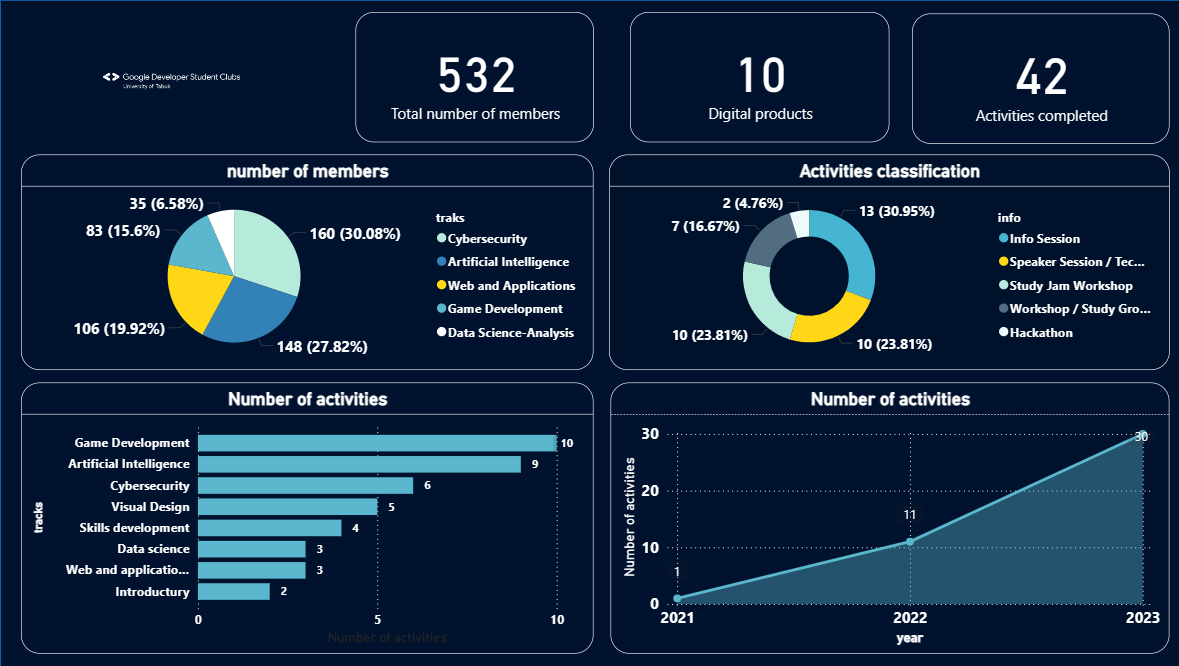

What the dashboard file says about the page in this screenshot:
{"tool":"powerbi","page":{"name":"Page ١","canvas":[1280,720],"ordinal":0},"visuals":[{"type":"shape","box":[0,0,1279.8,720],"z":0},{"type":"donutChart","title":"Activities classification","fields":{"Category":["data (1).info"],"Y":["CountNonNull(data (1).info)"]},"box":[656.9,166.7,605.1,233],"z":1000},{"type":"pieChart","title":"number of members ","fields":{"Category":["ورقة1 (2).traks"],"Y":["Sum(ورقة1 (2).number of members)"]},"box":[22.7,166.7,618.1,233],"z":2000},{"type":"image","box":[0,0,370.5,166.7],"z":3000},{"type":"card","fields":{"Values":["Sum(ورقة1 (2).number of members)"]},"box":[383.5,12.9,257.3,140.8],"z":4000},{"type":"card","fields":{"Values":["Sum(الجدول3 (2).عددها )"]},"box":[679.6,12.9,279.9,140.8],"z":5000},{"type":"card","fields":{"Values":["CountNonNull(data__1.Column1)"]},"box":[983.7,14.6,278.3,140.8],"z":6000},{"type":"clusteredBarChart","title":"Number of activities  ","fields":{"Category":["data__17.tracks"],"Y":["CountNonNull(data__17.number)"]},"box":[22.7,412.6,618.1,292.9],"z":7000},{"type":"areaChart","title":"Number of activities  ","fields":{"Category":["data__14.year"],"Y":["Count(data__14.number)"]},"box":[658.5,412.6,603.5,292.9],"z":8000}]}

Visuals, with their boxes in screenshot pixels (x1, y1, x2, y2), scaled from the page's 1280x720 canvas onto the 1179x666 screenshot:
shape: [0, 0, 1178, 665]
"Activities classification" donutChart: [605, 154, 1162, 370]
"number of members " pieChart: [21, 154, 590, 370]
image: [0, 0, 341, 154]
card - Sum(ورقة1 (2).number of members): [353, 12, 590, 142]
card - Sum(الجدول3 (2).عددها ): [626, 12, 884, 142]
card - CountNonNull(data__1.Column1): [906, 14, 1162, 144]
"Number of activities  " clusteredBarChart: [21, 382, 590, 653]
"Number of activities  " areaChart: [607, 382, 1162, 653]
